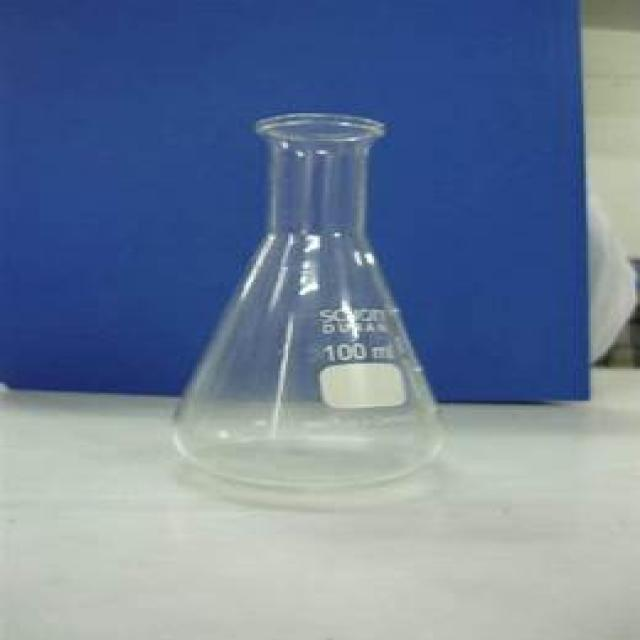Titrarion: (159, 113, 455, 489)
